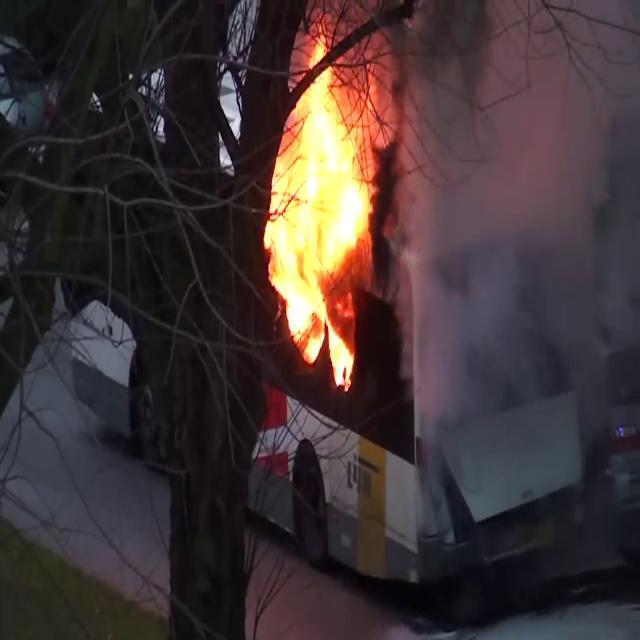Fire: (255, 36, 390, 383)
Smoke: (387, 0, 640, 467)
